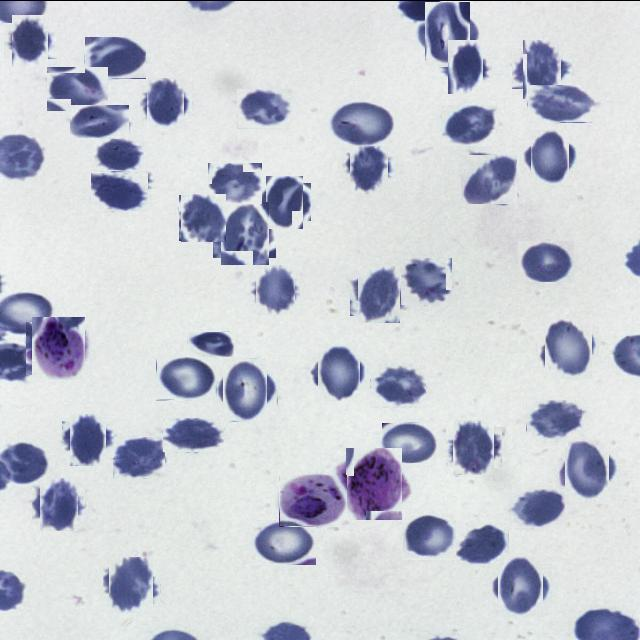gametocyte: (342, 450, 406, 514)
red blood cell: (326, 99, 396, 146), (419, 3, 476, 60), (216, 204, 272, 260), (251, 519, 316, 564), (560, 442, 614, 496), (542, 322, 596, 376), (494, 558, 548, 612), (218, 362, 272, 416), (462, 152, 516, 205), (46, 66, 108, 111), (156, 356, 217, 400), (84, 36, 146, 78), (527, 84, 594, 122), (314, 346, 364, 396), (106, 559, 156, 609), (354, 268, 404, 318), (400, 257, 452, 305), (402, 512, 456, 558), (518, 44, 566, 94), (518, 238, 574, 280), (450, 422, 498, 471), (526, 399, 582, 441), (454, 522, 509, 564), (207, 162, 262, 204), (371, 364, 426, 406), (442, 104, 498, 145), (180, 193, 227, 240), (526, 134, 574, 180), (237, 88, 292, 128), (510, 488, 565, 528), (382, 422, 437, 462), (91, 172, 148, 210), (346, 143, 392, 190), (113, 436, 165, 477), (252, 266, 298, 312), (262, 178, 308, 224), (163, 417, 224, 451), (36, 481, 81, 526), (442, 44, 488, 88), (144, 80, 188, 125), (66, 416, 110, 461), (8, 18, 53, 62), (70, 104, 129, 137), (92, 138, 144, 170), (187, 331, 234, 357)
trophozoite: (279, 474, 347, 526), (29, 318, 88, 376)
